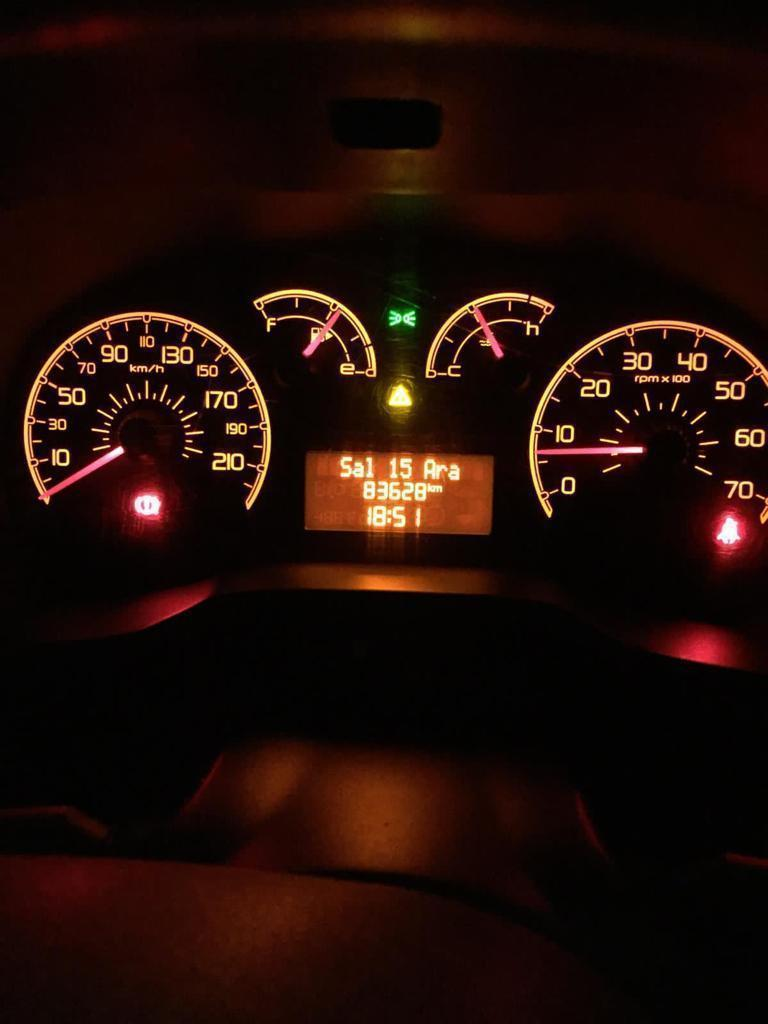1: (414, 504, 423, 529), (389, 456, 398, 479), (367, 504, 373, 526)
2: (402, 481, 413, 500)
3: (377, 479, 388, 500)
5: (400, 456, 412, 478), (393, 506, 405, 528)
6: (389, 481, 400, 499)
8: (373, 504, 386, 527), (363, 480, 375, 498), (415, 482, 425, 501)
X: (339, 455, 351, 478), (424, 458, 436, 480), (448, 462, 460, 480), (365, 455, 374, 478), (353, 461, 364, 478), (436, 463, 447, 480), (432, 484, 443, 493), (386, 507, 391, 524), (427, 482, 432, 492)
odometer: (303, 450, 495, 536)
